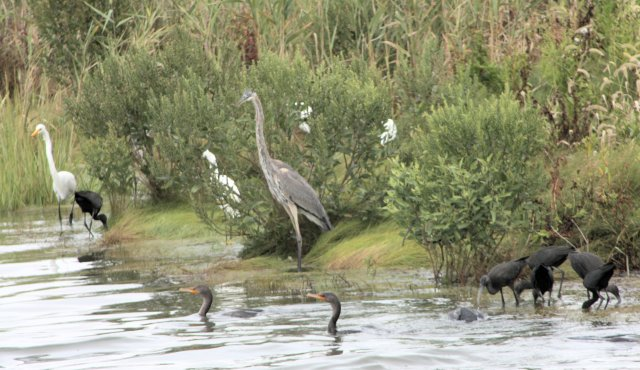heron: (236, 83, 335, 280)
